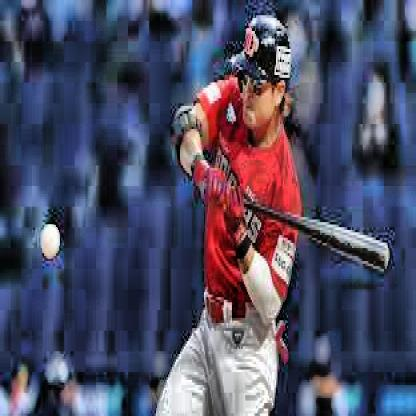baseball: (41, 218, 61, 261)
